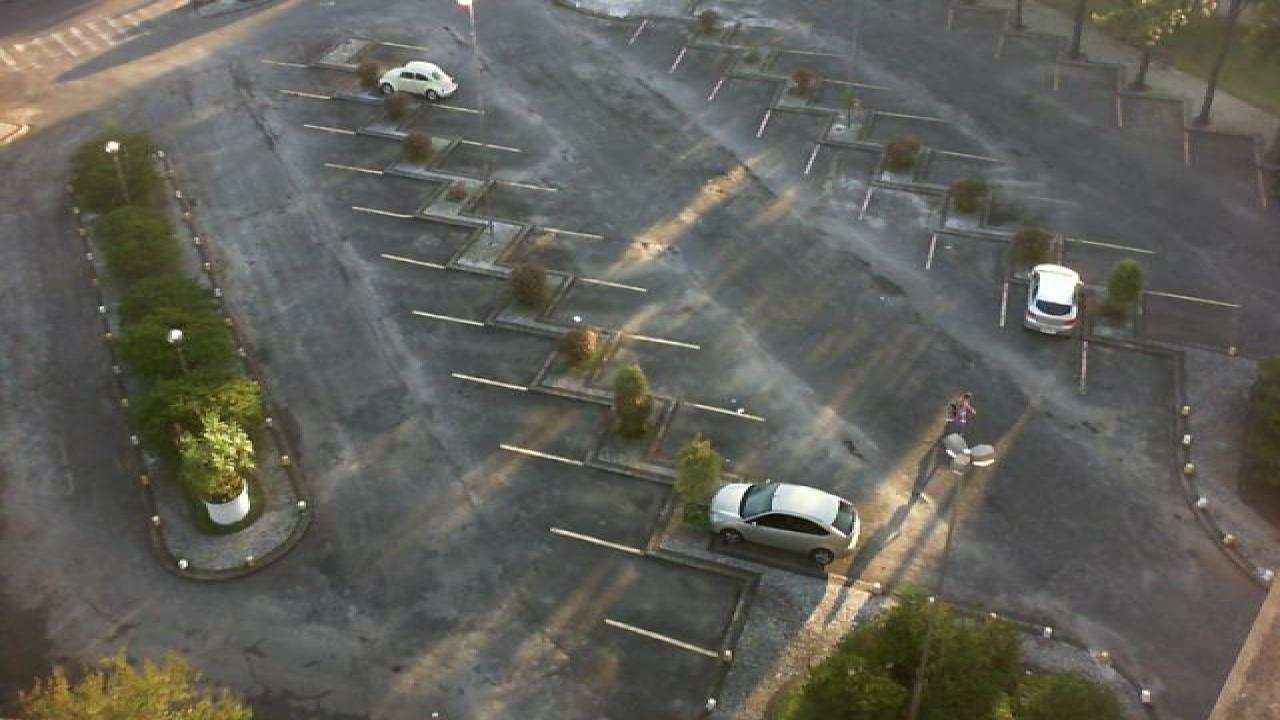Car: (708, 478, 864, 569), (1022, 264, 1084, 336), (376, 60, 460, 104)
